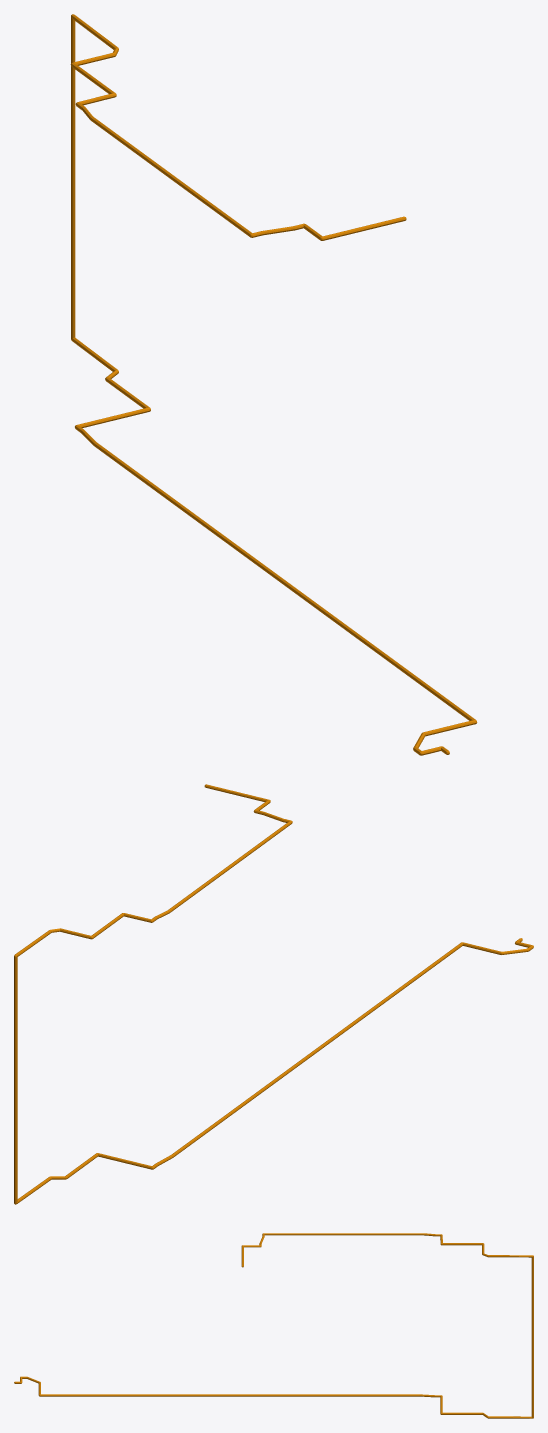
The picture shows the model from 3 angles, top to bottom: view 1: azimuth 30°, elevation 25°; view 2: azimuth 150°, elevation 25°; view 3: azimuth 270°, elevation 25°; orthographic projection. The views are drawn at different scales.
Size of the model in its own units: 1016 by 1520 by 4383.
